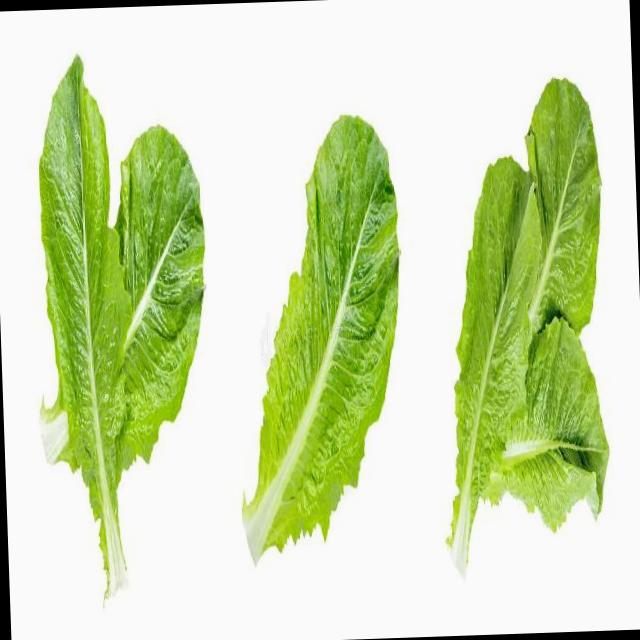Lettuce-Ready-to-Harvest: (243, 115, 397, 559), (39, 57, 129, 594), (450, 157, 541, 567), (115, 127, 203, 465), (500, 318, 607, 528), (526, 79, 600, 332)
